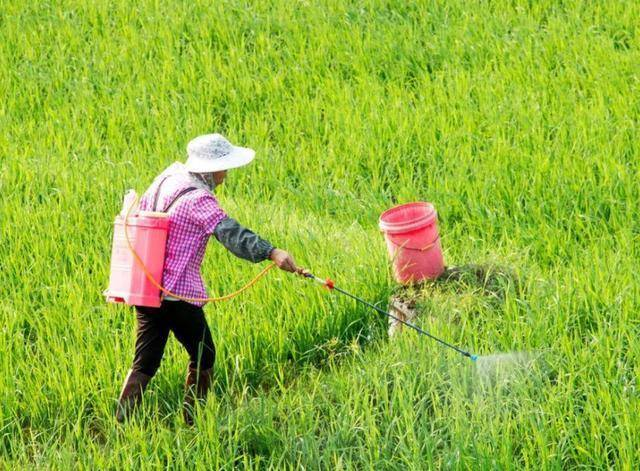berrl: (108, 210, 166, 310)
